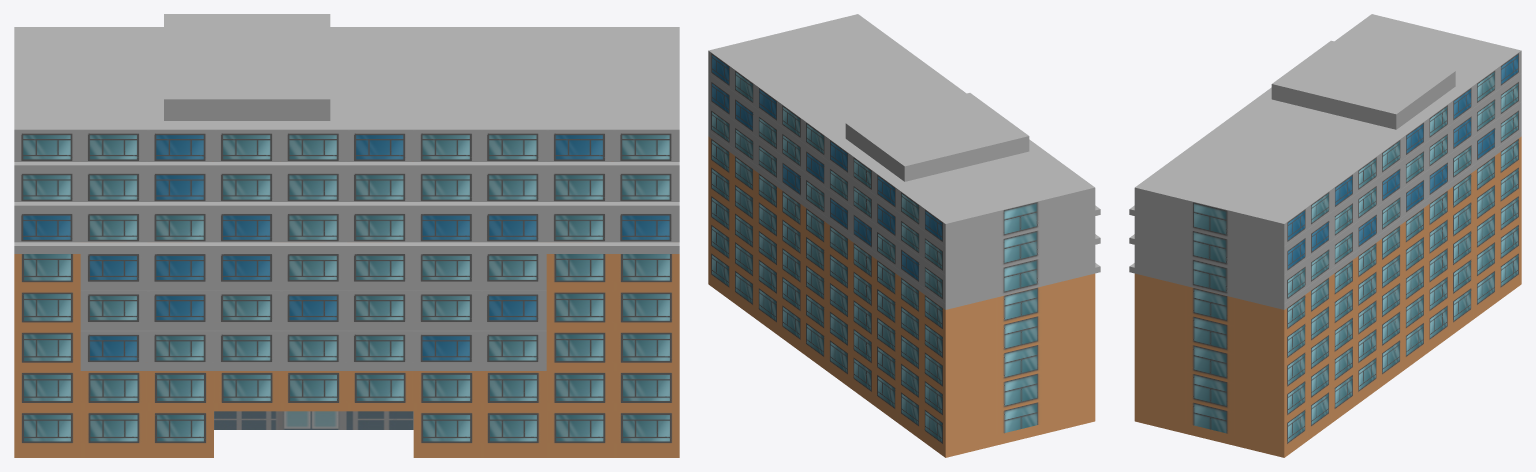
Rendered from building_sanhak.fbx.
3 views of the same model, side by side, from view 1: azimuth 30°, elevation 25°; view 2: azimuth 150°, elevation 25°; view 3: azimuth 270°, elevation 25° (orthographic). The views are drawn at different scales.
Parts seen in each view (by area): view 1: building_sanhak; view 2: building_sanhak; view 3: building_sanhak.
Part boxes in pixels (left/top/right/bottom): building_sanhak: left=14, top=14, right=679, bottom=457; building_sanhak: left=708, top=14, right=1100, bottom=457; building_sanhak: left=1129, top=14, right=1521, bottom=457.
Bounding box in the file's own units: 4.89 × 2.69 × 3.83.
Materials: 1 (1 with a texture image).
